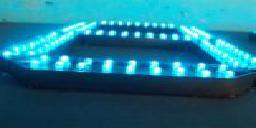LED: (10, 16, 256, 91)
